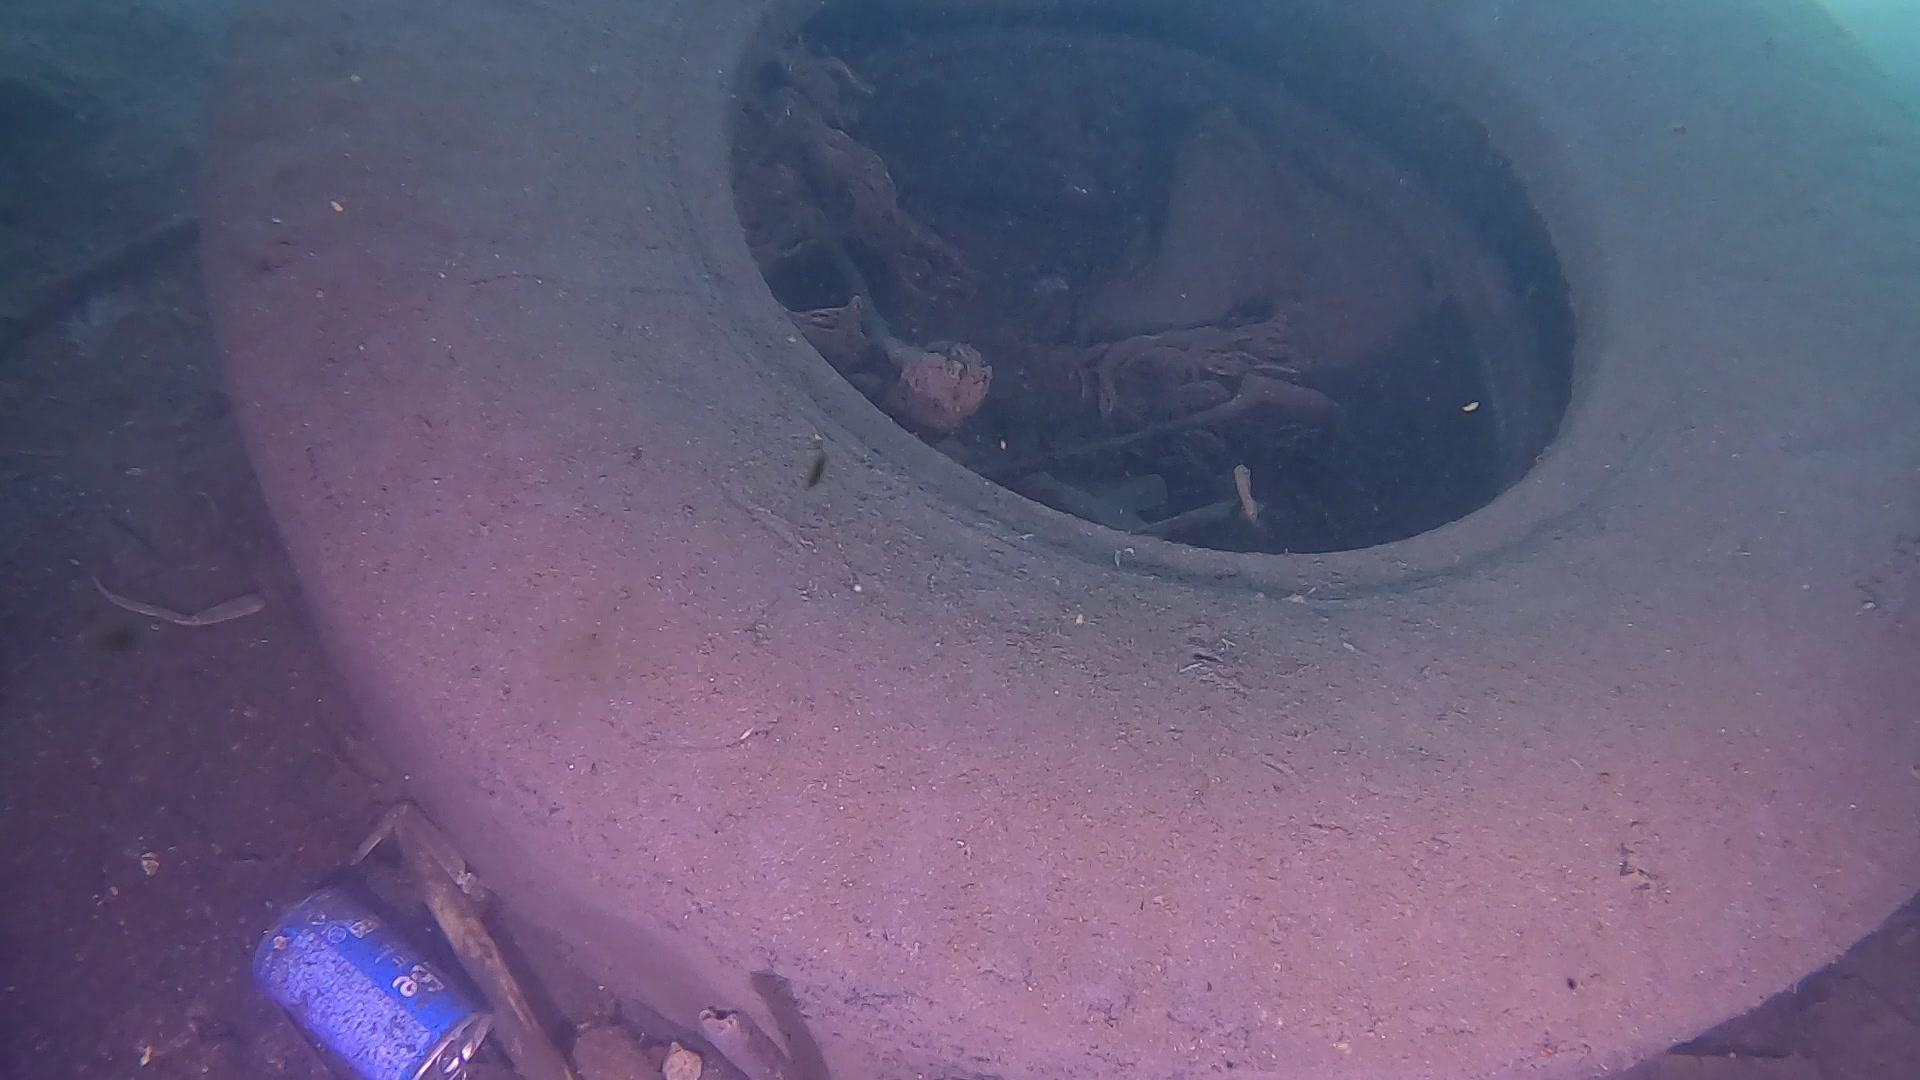tire: (198, 0, 1920, 1080)
